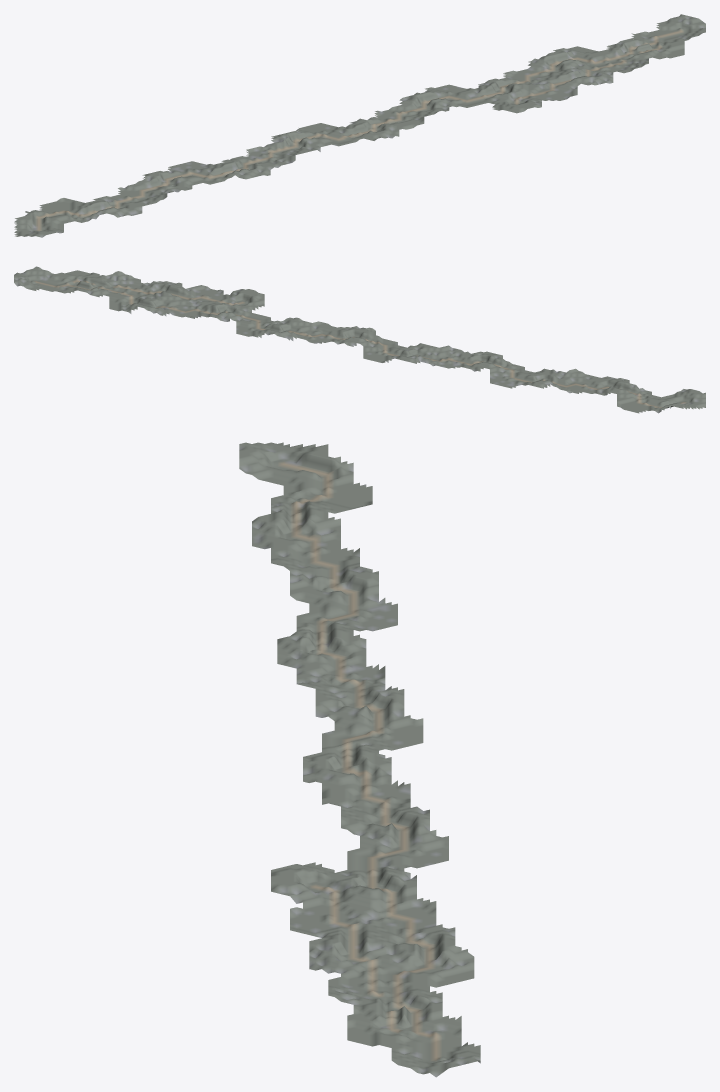
File: terrain.glb
3 views of the same model, one above another, from view 1: azimuth 30°, elevation 25°; view 2: azimuth 150°, elevation 25°; view 3: azimuth 270°, elevation 25° (orthographic). The views are drawn at different scales.
Parts seen in each view (by area): view 1: NATURAL_13_-2, NATURAL_15_-2, NATURAL_14_-2, NATURAL_11_-2, NATURAL_3_-1, NATURAL_10_-2, NATURAL_4_-1, NATURAL_1_-1, NATURAL_12_-1, NATURAL_5_-1, NATURAL_0_-1, NATURAL_11_-1 (+15 smaller); view 2: NATURAL_11_-1, NATURAL_13_-2, NATURAL_1_-1, NATURAL_14_-2, NATURAL_15_-2, NATURAL_4_-1, NATURAL_11_-2, NATURAL_2_-1, NATURAL_5_-1, NATURAL_12_-2, NATURAL_3_-1, NATURAL_6_-1 (+16 smaller); view 3: NATURAL_14_-2, NATURAL_5_-1, NATURAL_15_-2, NATURAL_13_-2, NATURAL_0_-1, NATURAL_11_-2, NATURAL_12_-2, NATURAL_10_-2, NATURAL_11_-1, NATURAL_12_-1, NATURAL_3_-1, NATURAL_1_-1 (+17 smaller).
Boxes of the visible parts, <box> form: NATURAL_13_-2: <box>510,61,594,83</box>; NATURAL_15_-2: <box>599,39,680,60</box>; NATURAL_14_-2: <box>553,51,637,71</box>; NATURAL_11_-2: <box>428,84,507,104</box>; NATURAL_3_-1: <box>125,174,194,194</box>; NATURAL_10_-2: <box>396,91,466,113</box>; NATURAL_4_-1: <box>168,165,252,184</box>; NATURAL_1_-1: <box>39,198,119,219</box>; NATURAL_12_-1: <box>510,83,577,100</box>; NATURAL_5_-1: <box>210,157,288,175</box>; NATURAL_0_-1: <box>15,210,80,229</box>; NATURAL_11_-1: <box>467,91,541,111</box>; NATURAL_11_-1: <box>226,290,264,319</box>; NATURAL_13_-2: <box>150,290,188,317</box>; NATURAL_1_-1: <box>607,382,645,411</box>; NATURAL_14_-2: <box>112,280,150,306</box>; NATURAL_15_-2: <box>74,272,112,300</box>; NATURAL_4_-1: <box>493,354,531,382</box>; NATURAL_11_-2: <box>226,309,264,335</box>; NATURAL_2_-1: <box>569,370,607,395</box>; NATURAL_5_-1: <box>455,348,493,372</box>; NATURAL_12_-2: <box>188,299,226,321</box>; NATURAL_3_-1: <box>531,368,569,392</box>; NATURAL_6_-1: <box>417,343,455,365</box>; NATURAL_14_-2: <box>360,944,436,999</box>; NATURAL_5_-1: <box>283,628,359,680</box>; NATURAL_15_-2: <box>360,983,436,1040</box>; NATURAL_13_-2: <box>360,907,436,962</box>; NATURAL_0_-1: <box>283,444,353,501</box>; NATURAL_11_-2: <box>360,830,436,888</box>; NATURAL_12_-2: <box>360,874,436,928</box>; NATURAL_10_-2: <box>360,802,429,855</box>; NATURAL_11_-1: <box>283,855,359,903</box>; NATURAL_12_-1: <box>290,885,359,937</box>; NATURAL_3_-1: <box>284,555,359,606</box>; NATURAL_1_-1: <box>283,482,359,538</box>.
Size of the model in its own units: 385 by 2.9 by 61.56.
